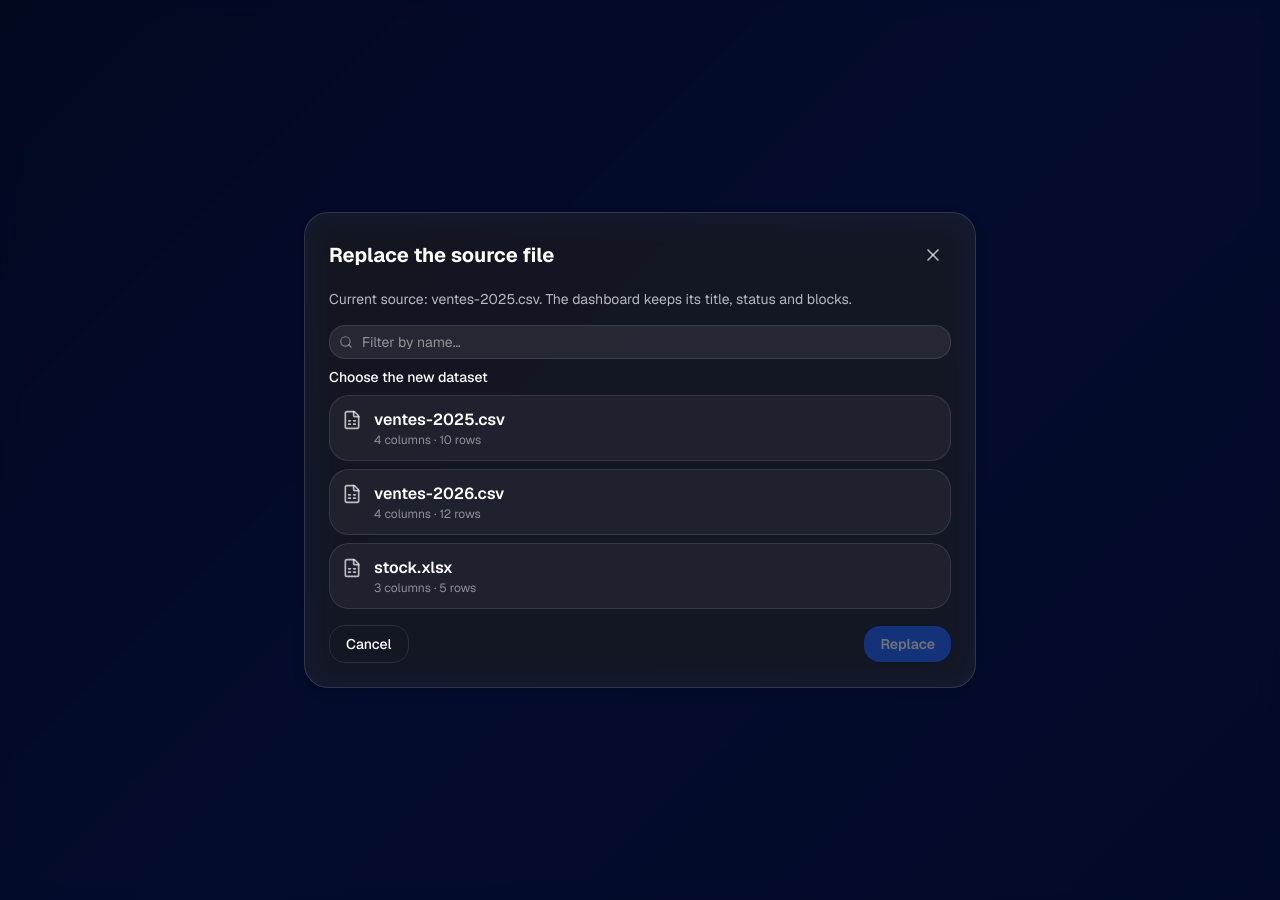
Scenario: ReplaceSourceModal › keeps Replace disabled while a required column is unmapped
The width and height of the screenshot is (1280, 900).
Click the radio button labelled "ventes-2026.csv 4 columns · 12 rows". click: (439,494)
box: [329,469,951,535]
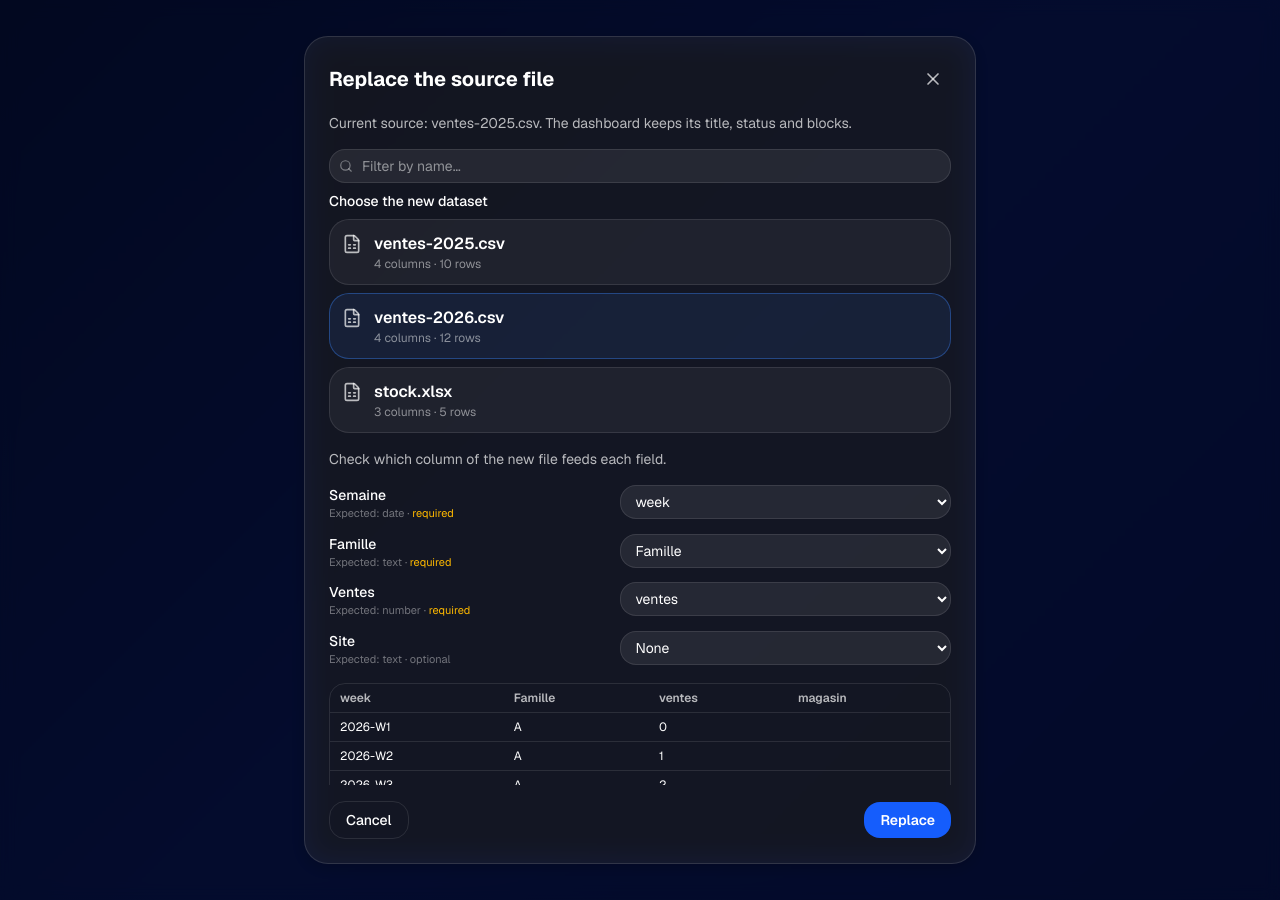
Expected: the dropdown labelled "Semaine" is shown, [620,485,951,519]
Select "Choose a column…" in the dropdown labelled "Ventes". click: (786,599)
box: [620,582,951,616]
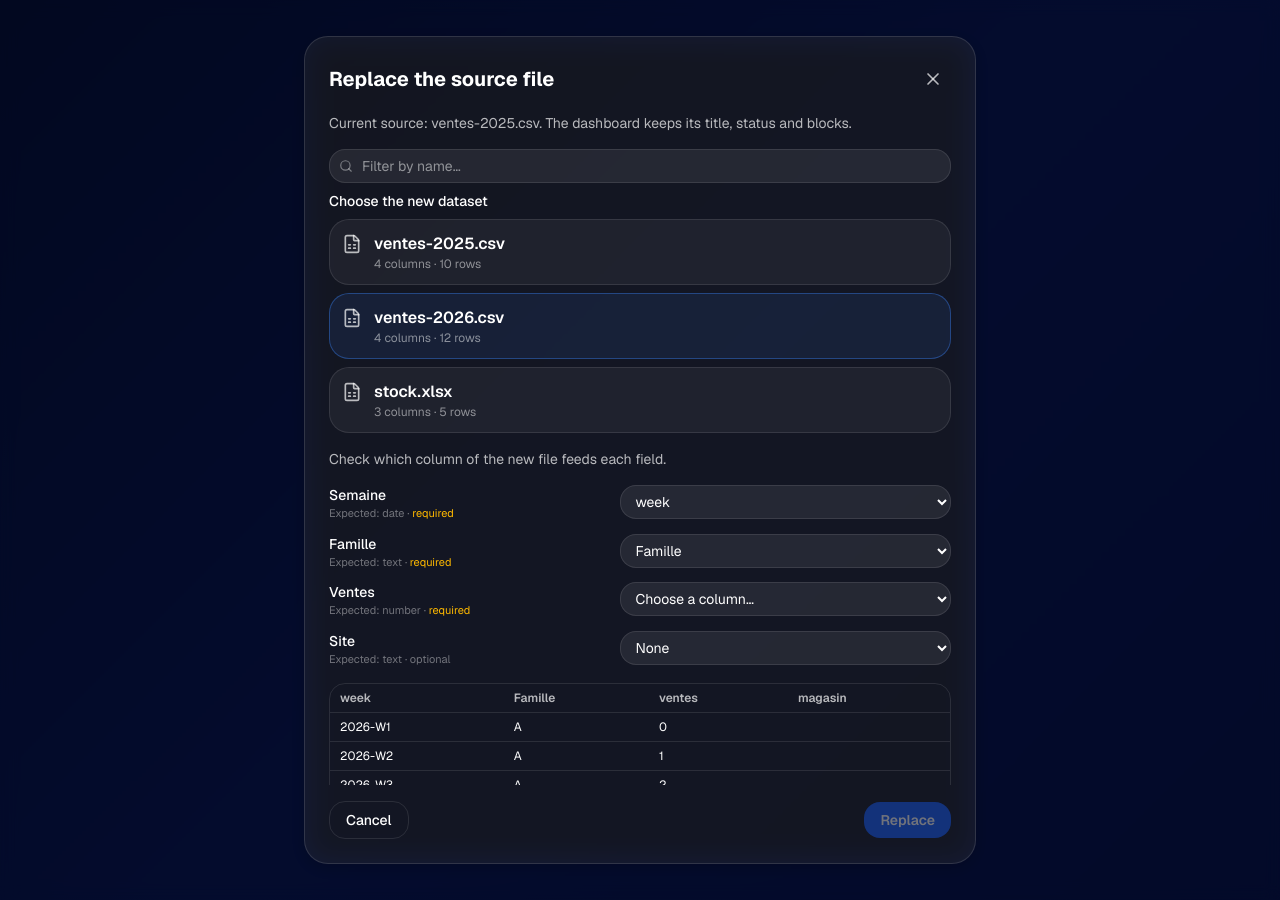
Expected: the button "Replace" is disabled, [864,802,951,838]
